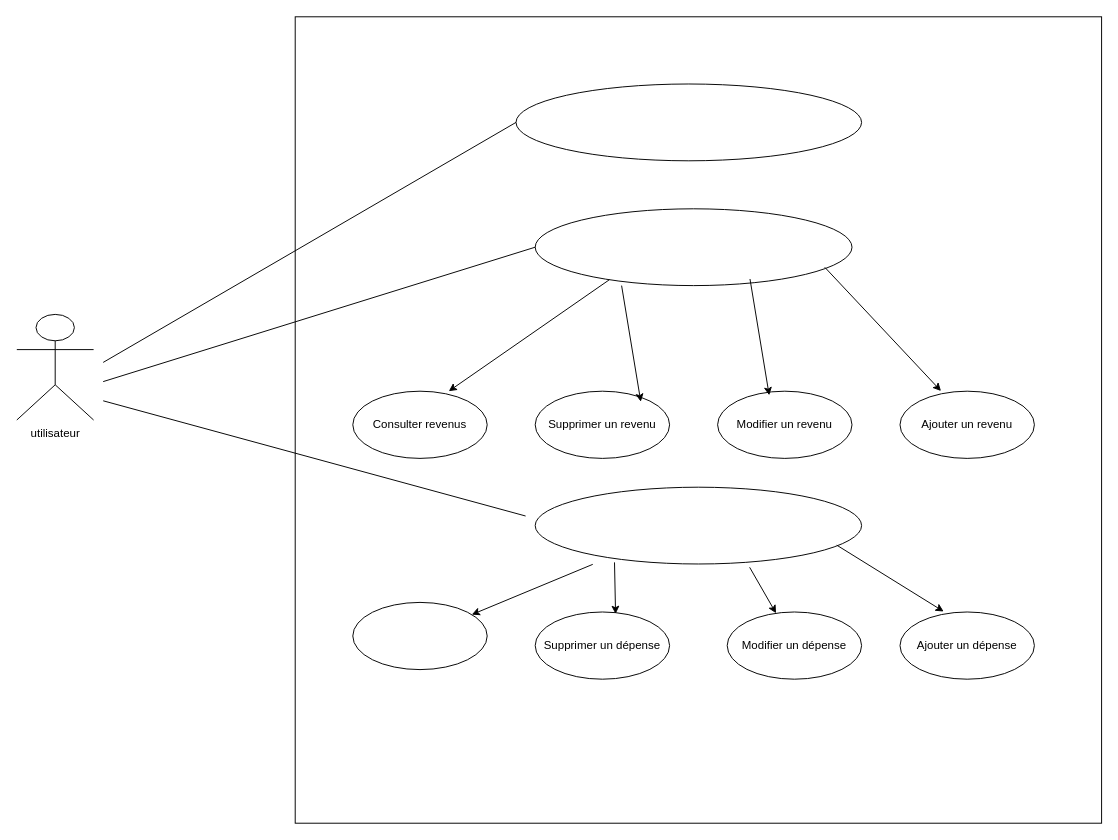
Image size: 1118x840. Some labels were removed from this diagram. Each missing label, with the centre of its shape:
"Consulter dépense" belongs at point (419, 635).
"gerer un dépense" belongs at point (698, 525).
"gerer un revenu" belongs at point (693, 247).
"Voir le Dashboard" belongs at point (688, 122).
